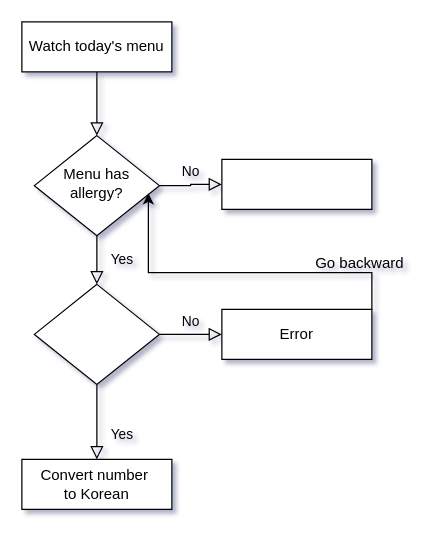
This 445x539 diagram has some shape labels left out. Here are the shapes that lost their labels. From the top down, the centre of each, then its label:
At [296,183]: "print(' ')".
At [96,333]: "Have number?".
